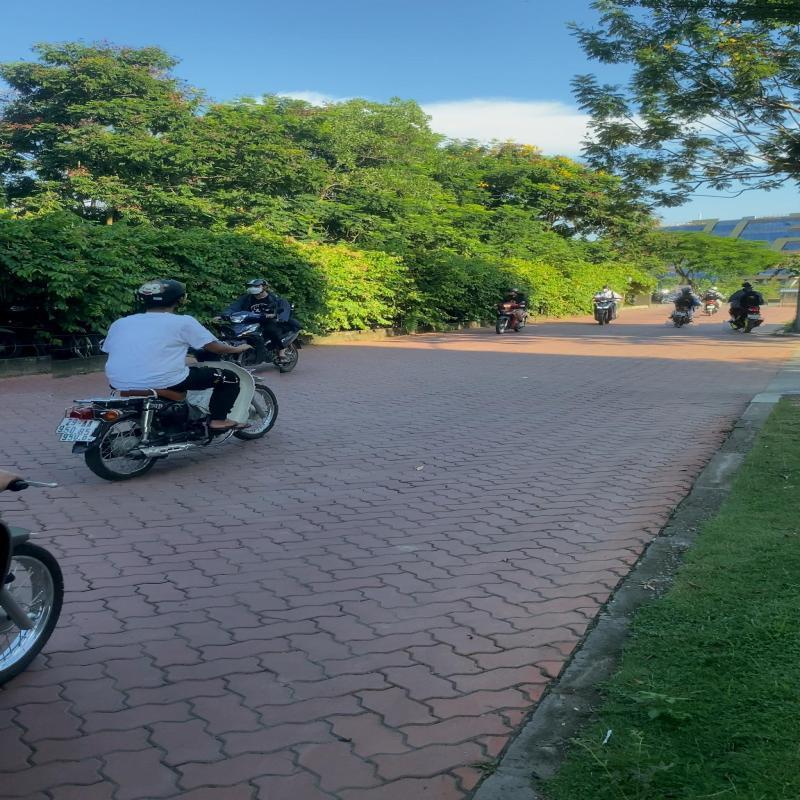helmet: (137, 280, 187, 309), (681, 287, 693, 294), (740, 282, 753, 287)
licenseplate: (56, 417, 102, 437), (675, 311, 686, 316), (749, 314, 761, 318)
motorcyclist: (50, 274, 283, 484), (724, 281, 768, 335), (666, 286, 702, 330)
